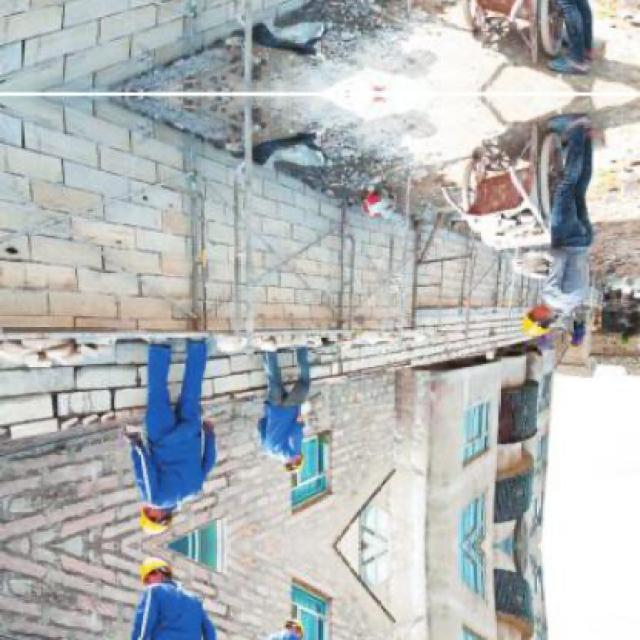con casco: (274, 432, 320, 504), (136, 482, 192, 535)
